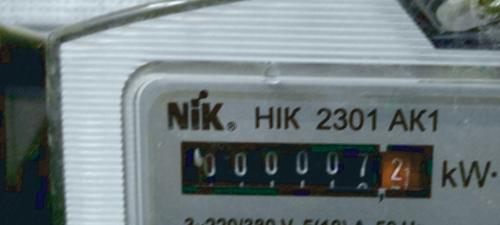0: (231, 149, 249, 178), (200, 150, 218, 178), (262, 148, 280, 176), (324, 148, 341, 176), (294, 148, 310, 175)
2: (388, 154, 405, 184)
7: (353, 150, 371, 179)
screen: (171, 127, 446, 209)
